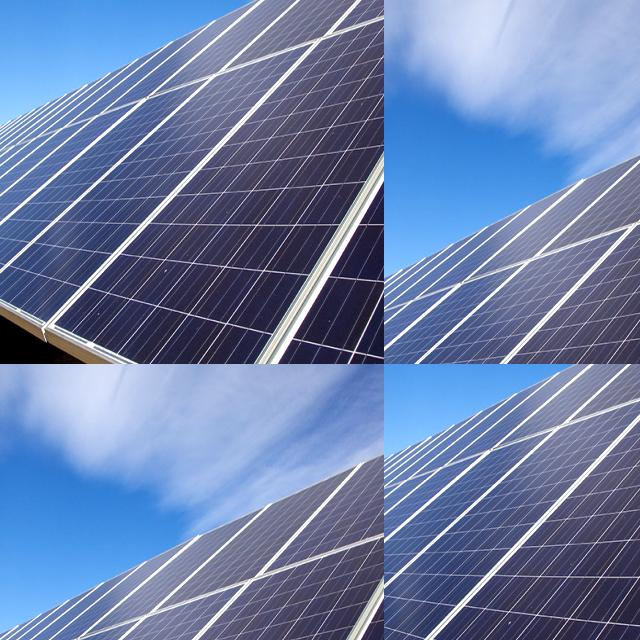crack: (384, 75, 638, 352), (384, 189, 640, 364), (531, 457, 640, 640), (410, 496, 518, 622), (6, 536, 103, 638), (0, 538, 51, 636), (0, 606, 142, 640), (0, 541, 44, 632)
